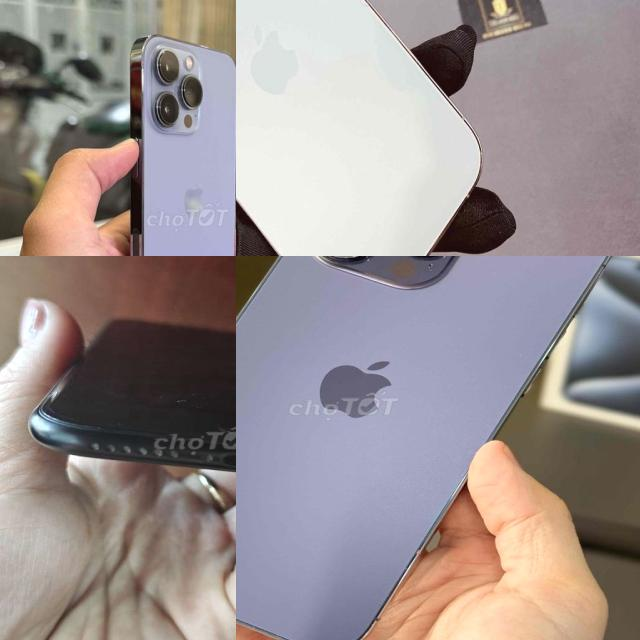gen_12_13: (123, 30, 236, 256)
gen_14: (236, 256, 601, 640), (236, 0, 486, 256)
gen_7_8: (24, 311, 236, 494)
scratch: (149, 382, 223, 421)
